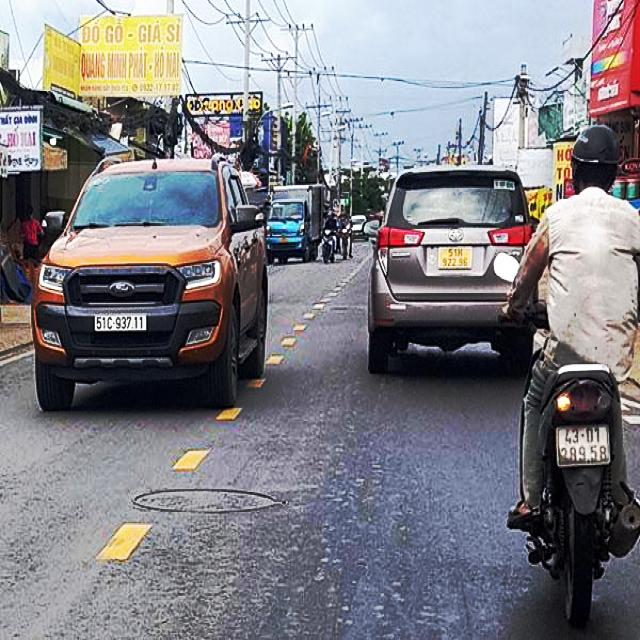license_plate: (93, 312, 150, 334)
